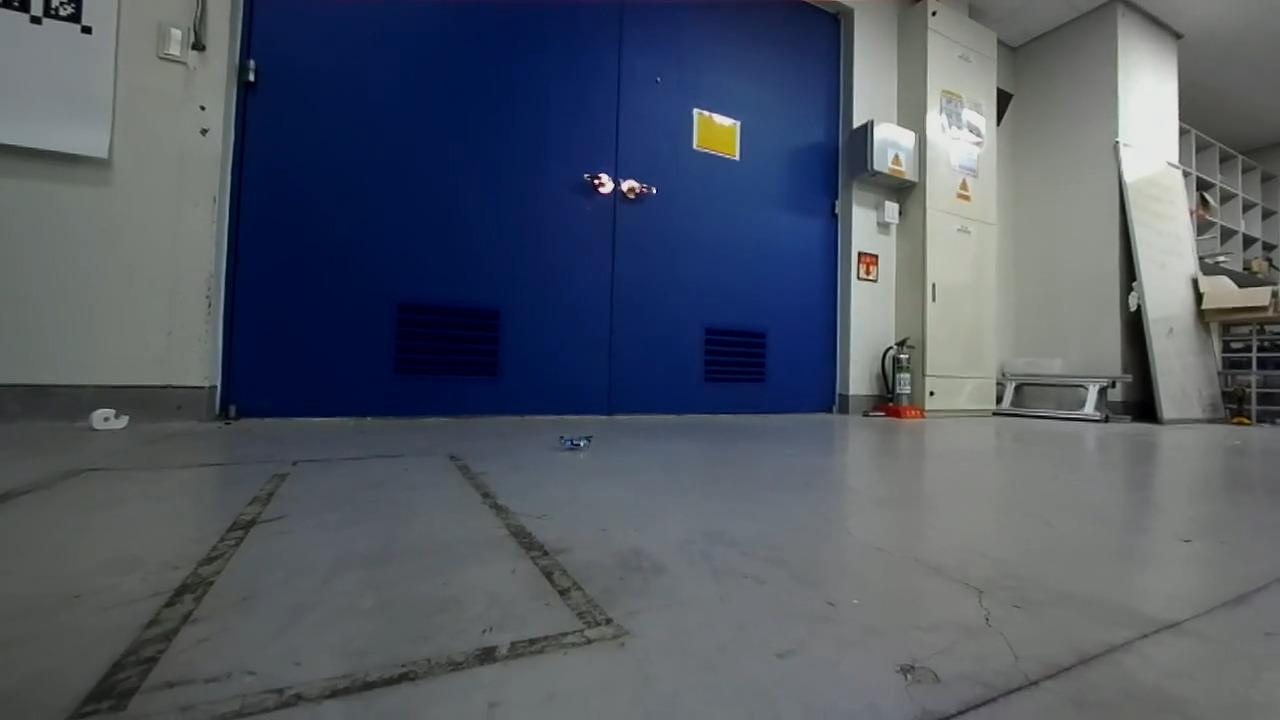crazyflie: (547, 428, 598, 458)
